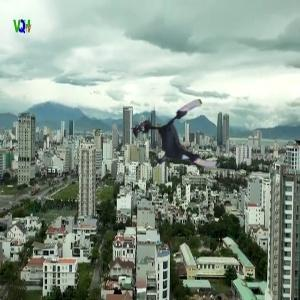drone: (145, 106, 221, 182)
